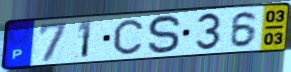1: (76, 18, 94, 61)
3: (193, 10, 225, 53)
6: (229, 10, 260, 49)
7: (37, 21, 69, 64)
C: (112, 18, 145, 56)
S: (146, 13, 183, 56)
